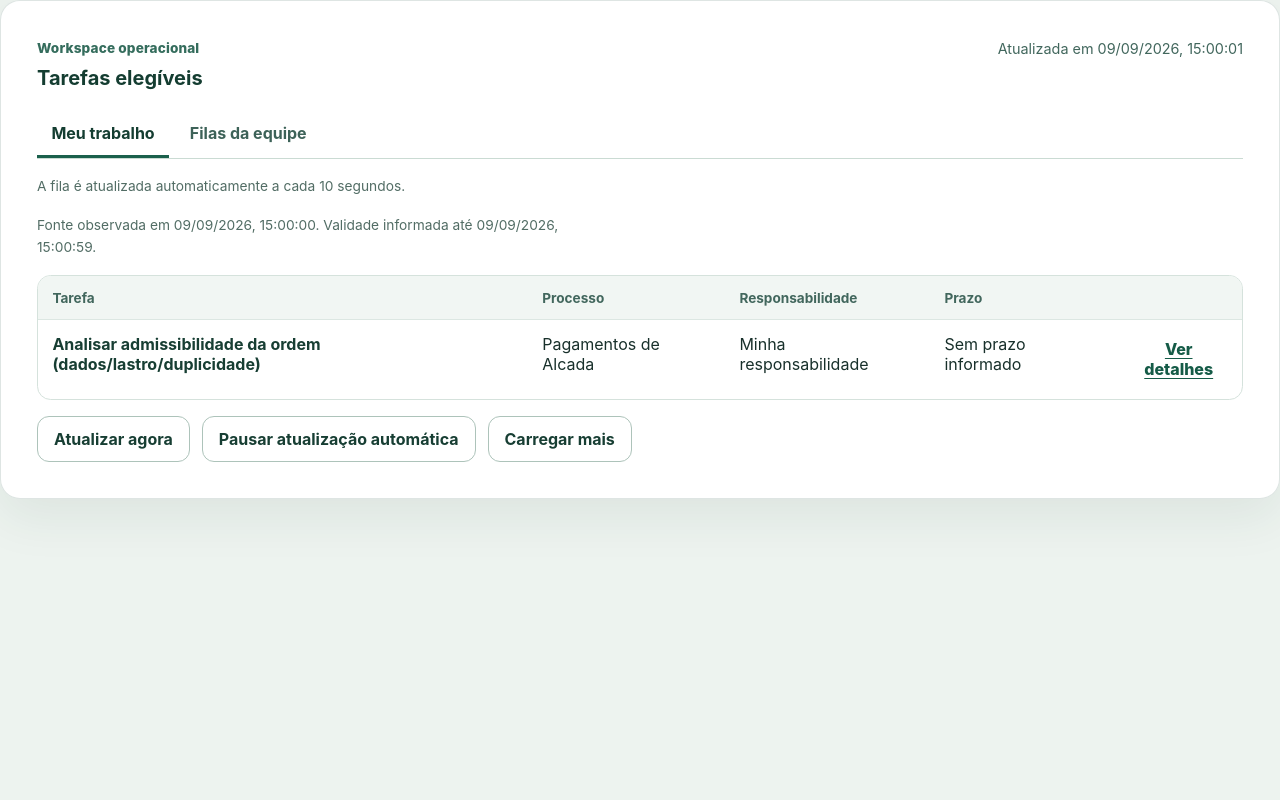
Test: an earlier second-page microsecond ceiling expires every retained row and pending detail
Click the button "Carregar mais" at (560, 439), box x1=488 y1=416 x2=632 y2=462
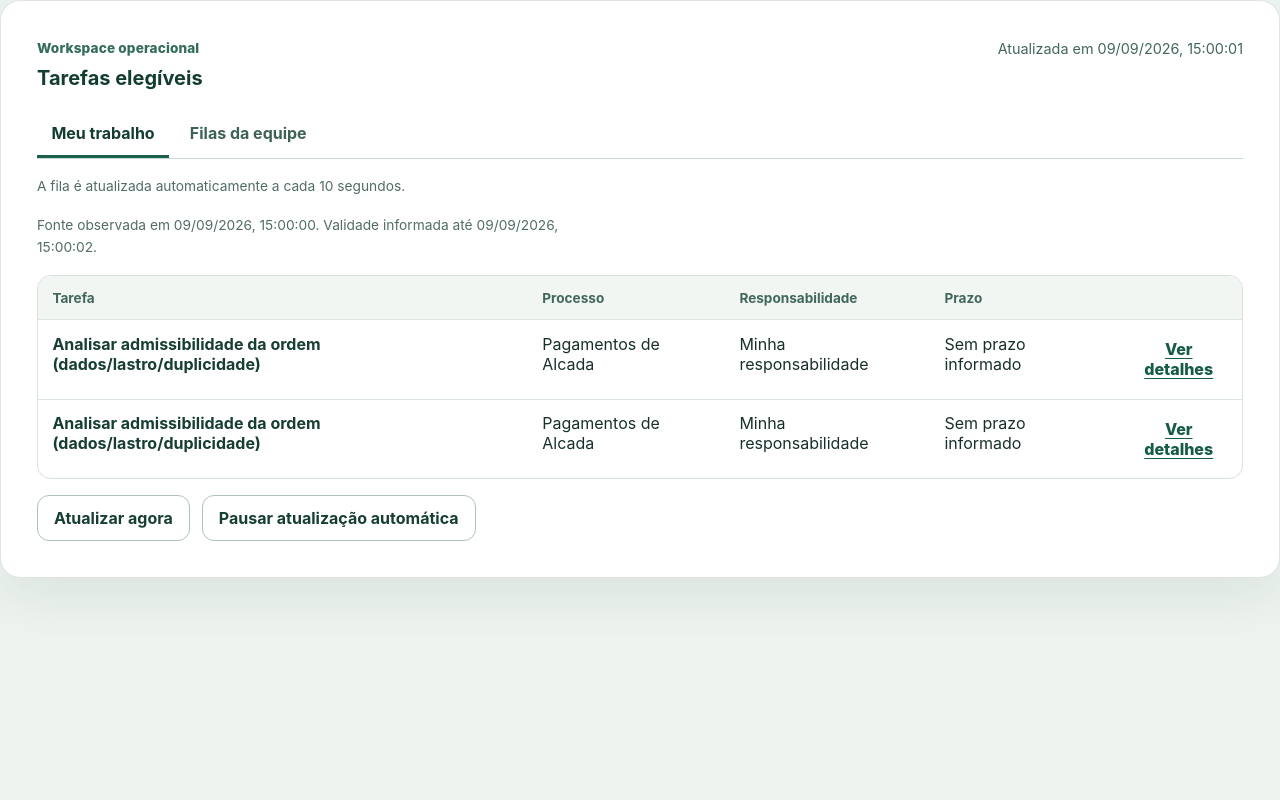
Click the button named "Ver detalhes: Analisar admissibilidade da ordem (dados/lastro/duplicidade)" at (1179, 360), box x1=1130 y1=334 x2=1228 y2=385
Wait 500 ms
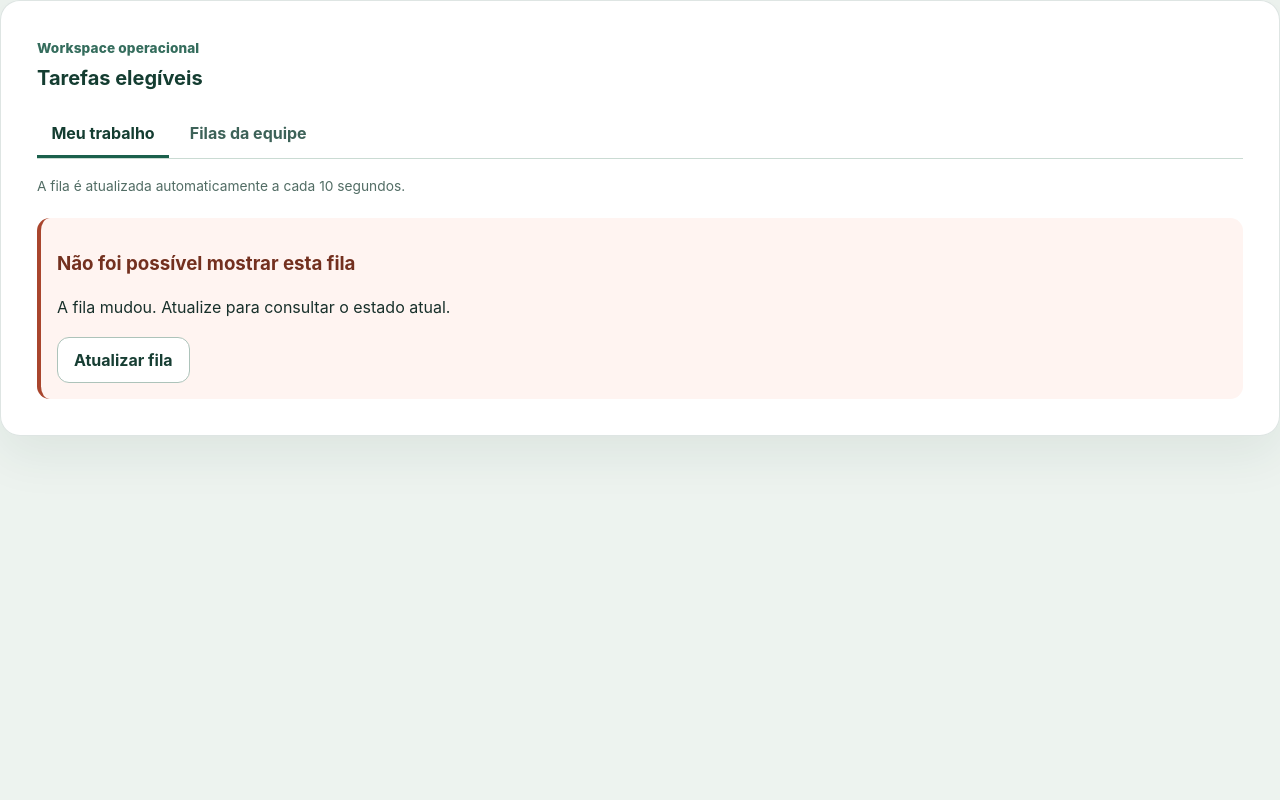
Expected: the column heading "Analisar admissibilidade da ordem (dados/lastro/duplicidade)" is gone
